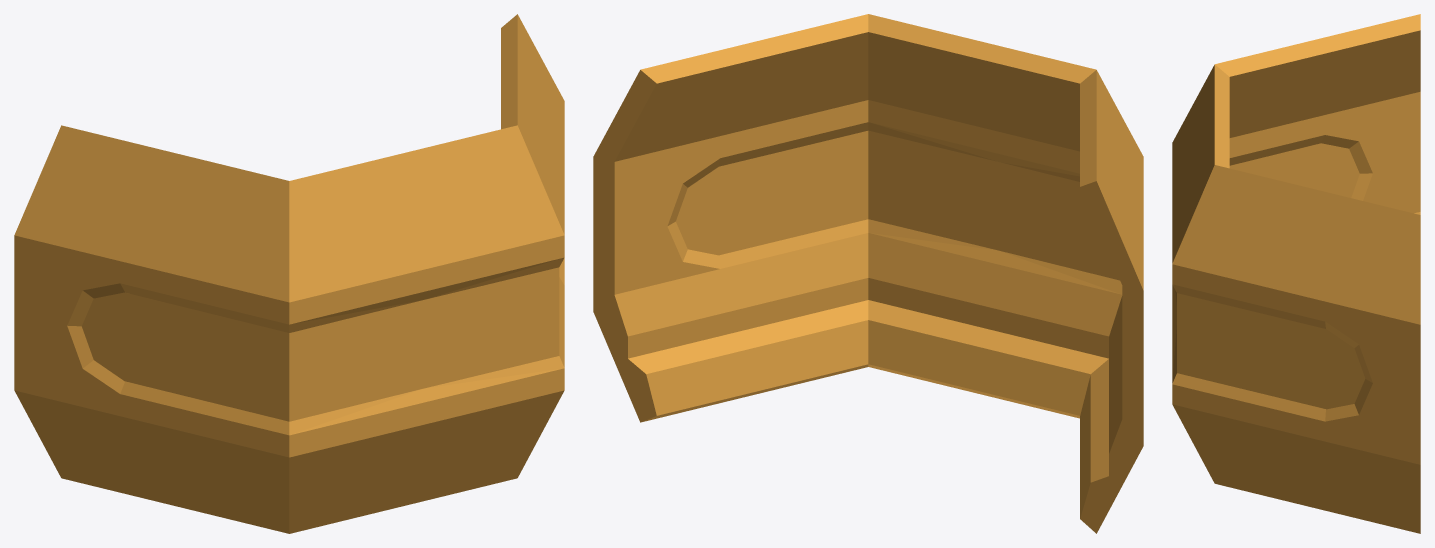
The model's file is scifi-window-corridor-turn.fbx.
3 views of the same model, side by side, from view 1: azimuth 30°, elevation 25°; view 2: azimuth 150°, elevation 25°; view 3: azimuth 270°, elevation 25° (orthographic). The views are drawn at different scales.
Visible parts, largest first — view 1: scifi-window-corridor-turn; view 2: scifi-window-corridor-turn; view 3: scifi-window-corridor-turn.
Part boxes in pixels (x1,y1,x2,y2): scifi-window-corridor-turn: [14, 14, 564, 533]; scifi-window-corridor-turn: [593, 14, 1143, 533]; scifi-window-corridor-turn: [1172, 14, 1420, 533].
Size of the model in its own units: 5.2 by 3.19 by 2.25.
